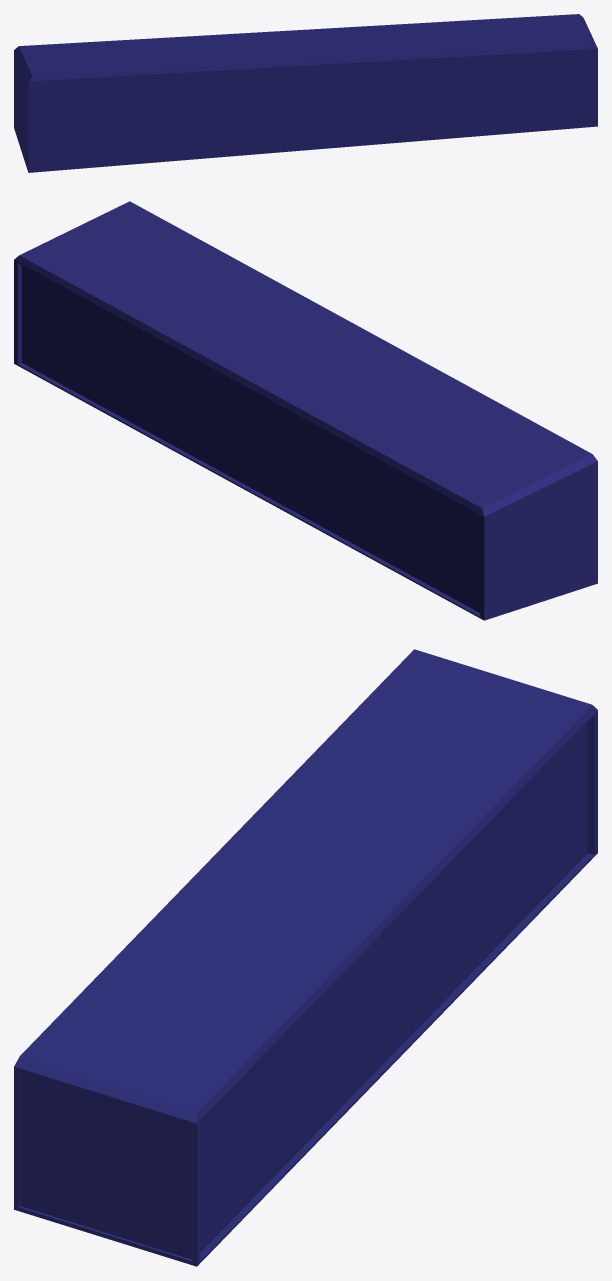
The model's file is WE01_Kinship_CrateBlue.fbx.
3 views of the same model, one above another, from view 1: azimuth 30°, elevation 25°; view 2: azimuth 150°, elevation 25°; view 3: azimuth 270°, elevation 25° (orthographic). The views are drawn at different scales.
Visible parts, largest first — view 1: Garage1; view 2: Garage1; view 3: Garage1.
Part boxes in pixels (box(x1,y1,x2,y2)): Garage1: box(14, 14, 597, 172); Garage1: box(14, 201, 597, 620); Garage1: box(14, 649, 597, 1266).
Bounding box in the file's own units: 10.69 × 1.97 × 5.93.
